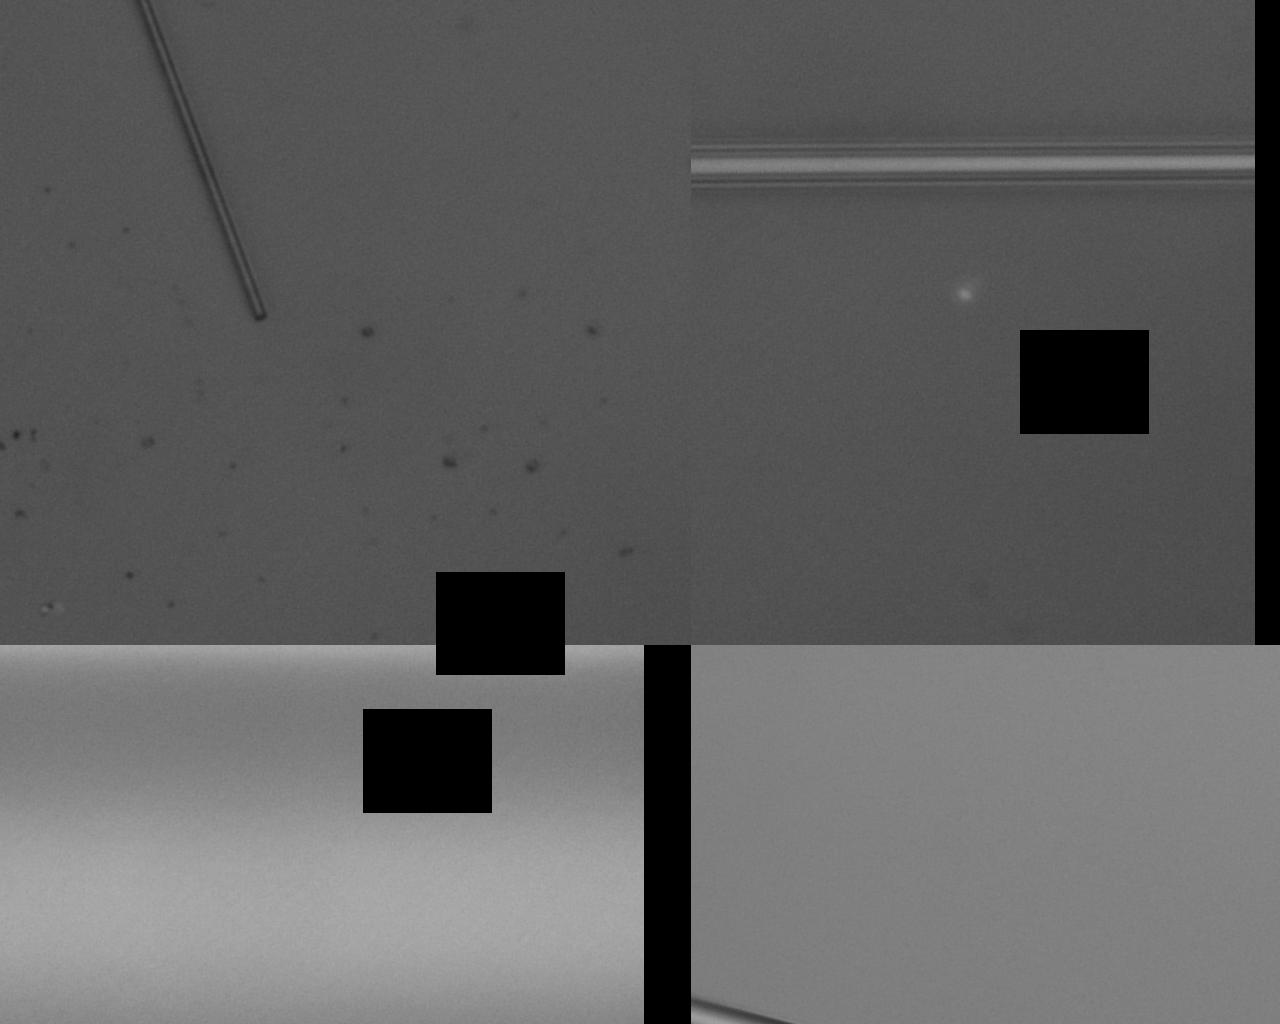fiber: (505, 0, 940, 675), (183, 0, 343, 675)
